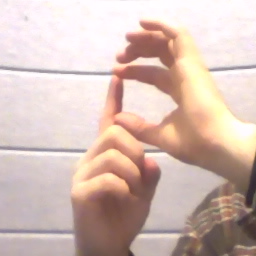P: (66, 15, 221, 231)
